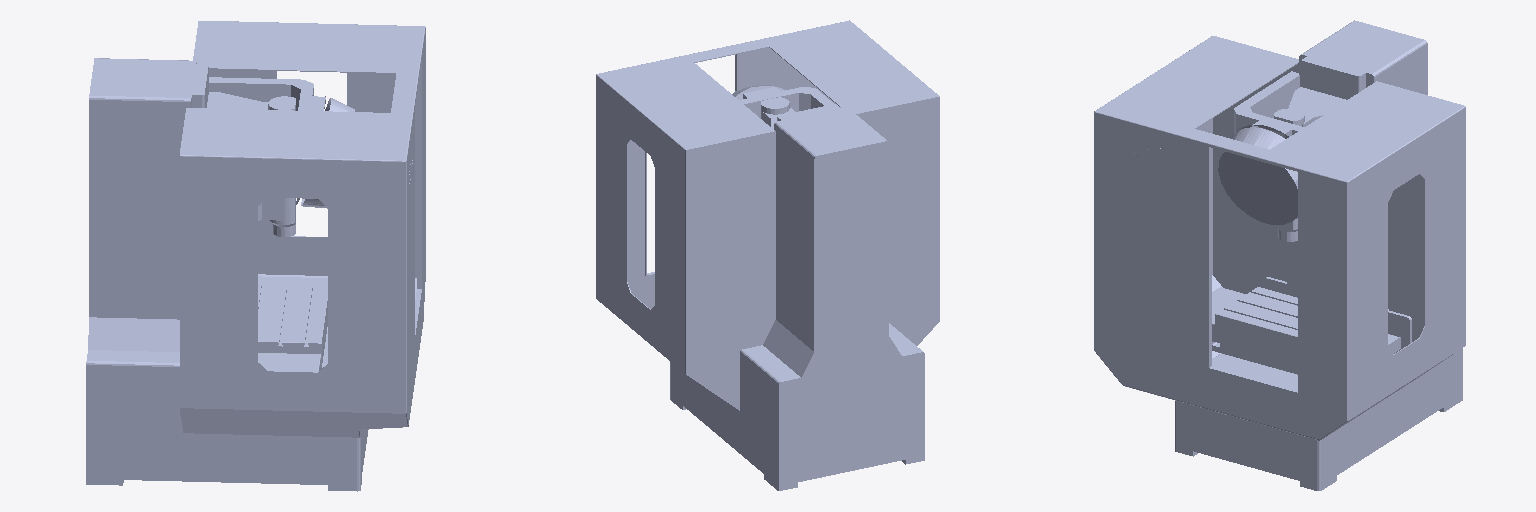
robot.urdf — machine_view:
<?xml version="1.0" encoding="utf-8"?>
<!-- This URDF was automatically created by SolidWorks to URDF Exporter! Originally created by [author] ([email redacted]) 
     Commit Version: 1.6.0-4-g7f85cfe  Build Version: 1.6.7995.38578
     For more information, please see http://wiki.ros.org/sw_urdf_exporter -->
<robot
  name="machine_view">
  <link
    name="machine_link">
    <inertial>
      <origin
        xyz="-0.13464 0.088863 0.71486"
        rpy="0 0 0" />
      <mass
        value="1053.3" />
      <inertia
        ixx="357.26"
        ixy="27.582"
        ixz="62.792"
        iyy="380.85"
        iyz="-41.443"
        izz="154.96" />
    </inertial>
    <visual>
      <origin
        xyz="0 0 0"
        rpy="0 0 0" />
      <geometry>
        <mesh
          filename="package://machine_view/meshes/base_link.STL" />
      </geometry>
      <material
        name="">
        <color
          rgba="0.79216 0.81961 0.93333 1" />
      </material>
    </visual>
    <collision>
      <origin
        xyz="0 0 0"
        rpy="0 0 0" />
      <geometry>
        <mesh
          filename="package://machine_view/meshes/base_link.STL" />
      </geometry>
    </collision>
  </link>
</robot>

--- Render facts (derived) ---
3 views of the same robot in one strip: view 1: azimuth 30°, elevation 25°; view 2: azimuth 150°, elevation 25°; view 3: azimuth 270°, elevation 25° (orthographic).
Robot: machine_view — 1 links, 0 joints (none); root link machine_link; default pose: every joint at zero.
Links seen in each view (by area): view 1: machine_link; view 2: machine_link; view 3: machine_link.
Link boxes in pixels (box(x1,y1,x2,y2)): machine_link: box(86, 21, 425, 491); machine_link: box(596, 20, 939, 490); machine_link: box(1094, 20, 1465, 490).
Size in the robot's own frame: 2 by 1.91 by 1.99 metres.
Meshes: 1 distinct files referenced, 1 mesh visuals loaded (1 binary STL).